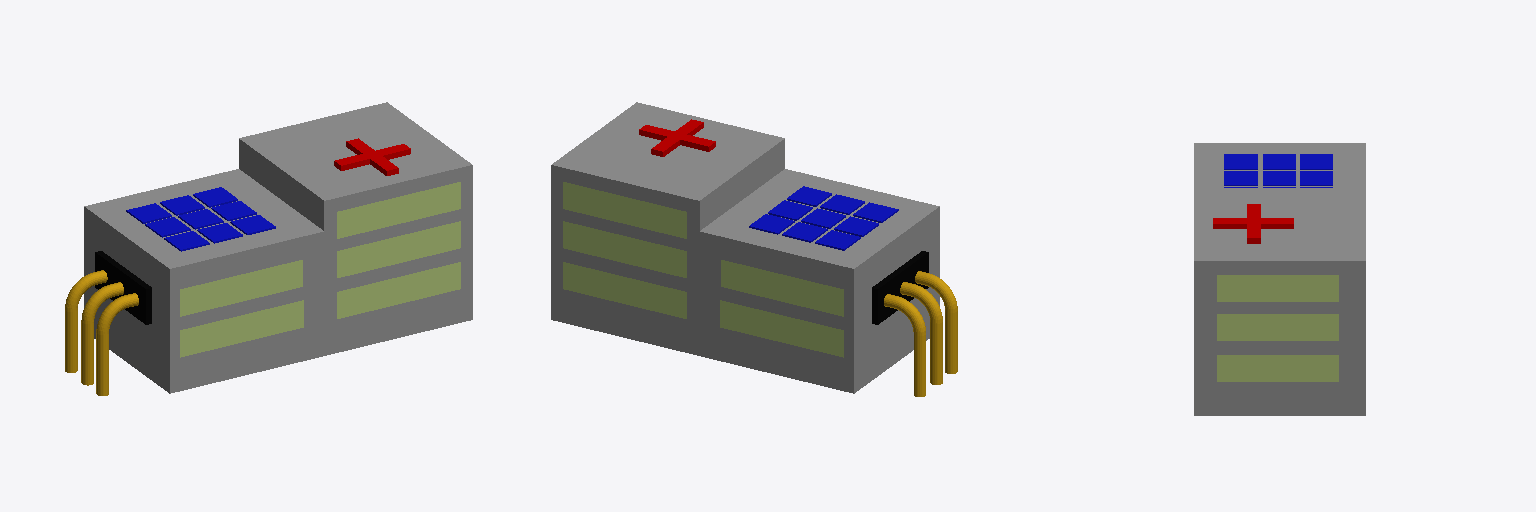
Rendered from Hospital.obj.
3 views of the same model, side by side, from view 1: azimuth 30°, elevation 25°; view 2: azimuth 150°, elevation 25°; view 3: azimuth 270°, elevation 25° (orthographic).
Parts seen in each view (by area): view 1: Text; view 2: Text; view 3: Text.
Boxes of the visible parts, x1,y1,x2,y2 form: Text: [65, 102, 472, 395]; Text: [551, 102, 957, 396]; Text: [1194, 143, 1365, 415].
Bounding box in the file's own units: 0.8062 × 0.3791 × 0.3436.